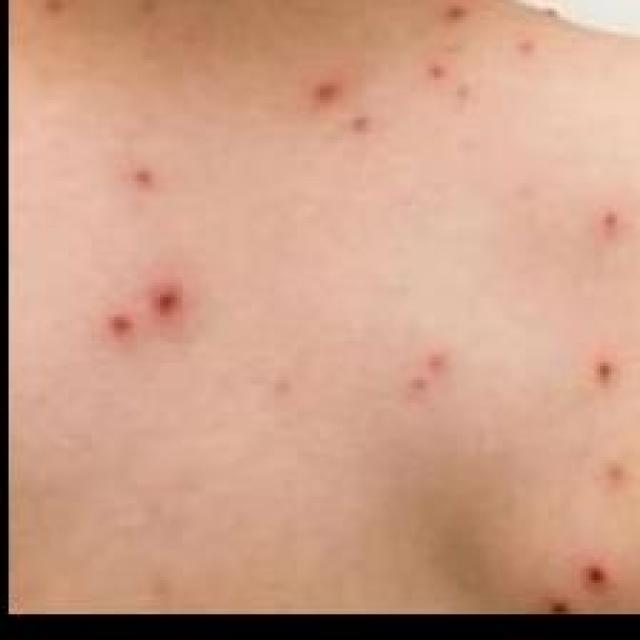monkeypox: (45, 0, 640, 604)
